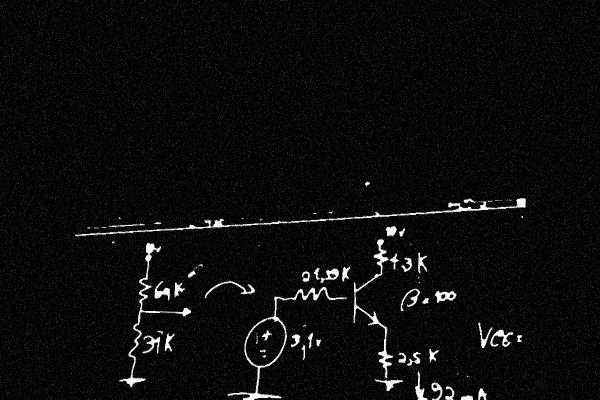ground: (371, 370, 403, 394), (224, 387, 283, 400), (116, 370, 147, 391)
resistor: (286, 284, 338, 306), (126, 313, 143, 369), (135, 270, 153, 308), (377, 341, 394, 375), (371, 245, 389, 272)
voltage: (241, 308, 289, 377)
